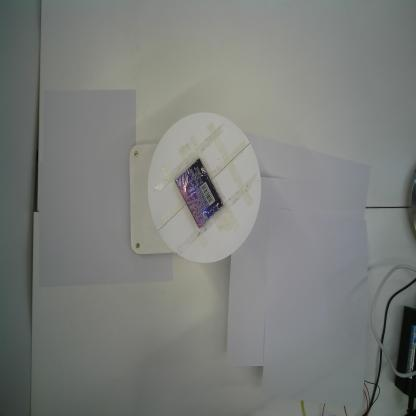Gum: (173, 157, 226, 230)
